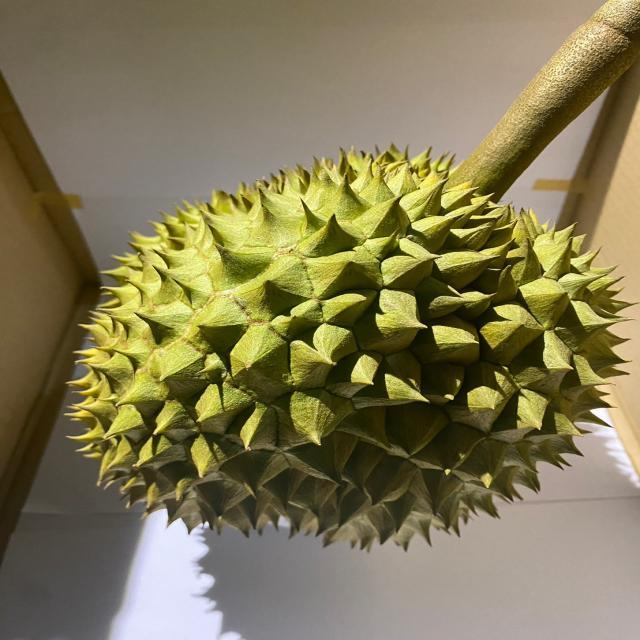immature: (52, 140, 632, 554)
